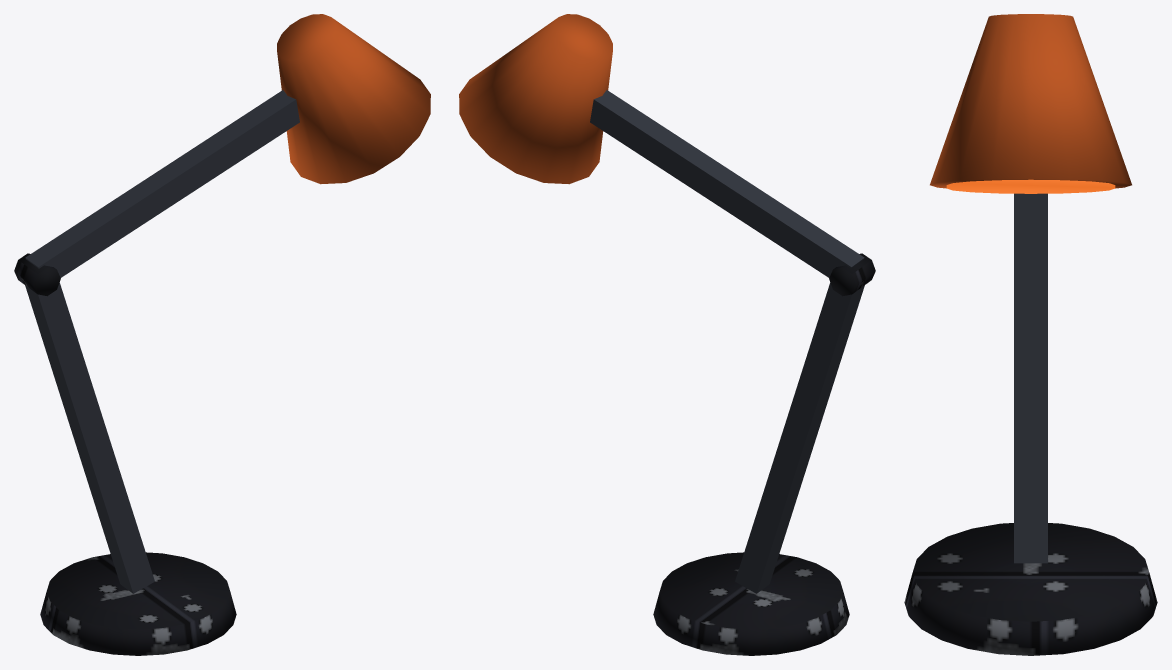
File: Deco_DeskLamp.001.gltf
3 renders of one model, left to right at view 1: azimuth 30°, elevation 25°; view 2: azimuth 150°, elevation 25°; view 3: azimuth 270°, elevation 25°, orthographic. The views are drawn at different scales.
Parts seen in each view (by area): view 1: Deco_DeskLamp.001; view 2: Deco_DeskLamp.001; view 3: Deco_DeskLamp.001.
Boxes of the visible parts, box(x1,y1,x2,y2) form: Deco_DeskLamp.001: box(14, 14, 430, 655); Deco_DeskLamp.001: box(459, 14, 875, 655); Deco_DeskLamp.001: box(904, 14, 1157, 655).
Bounding box in the file's own units: 0.3496 × 0.4639 × 0.15.
4 materials, 1 textured.
